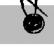not correct: (17, 0, 49, 35)
